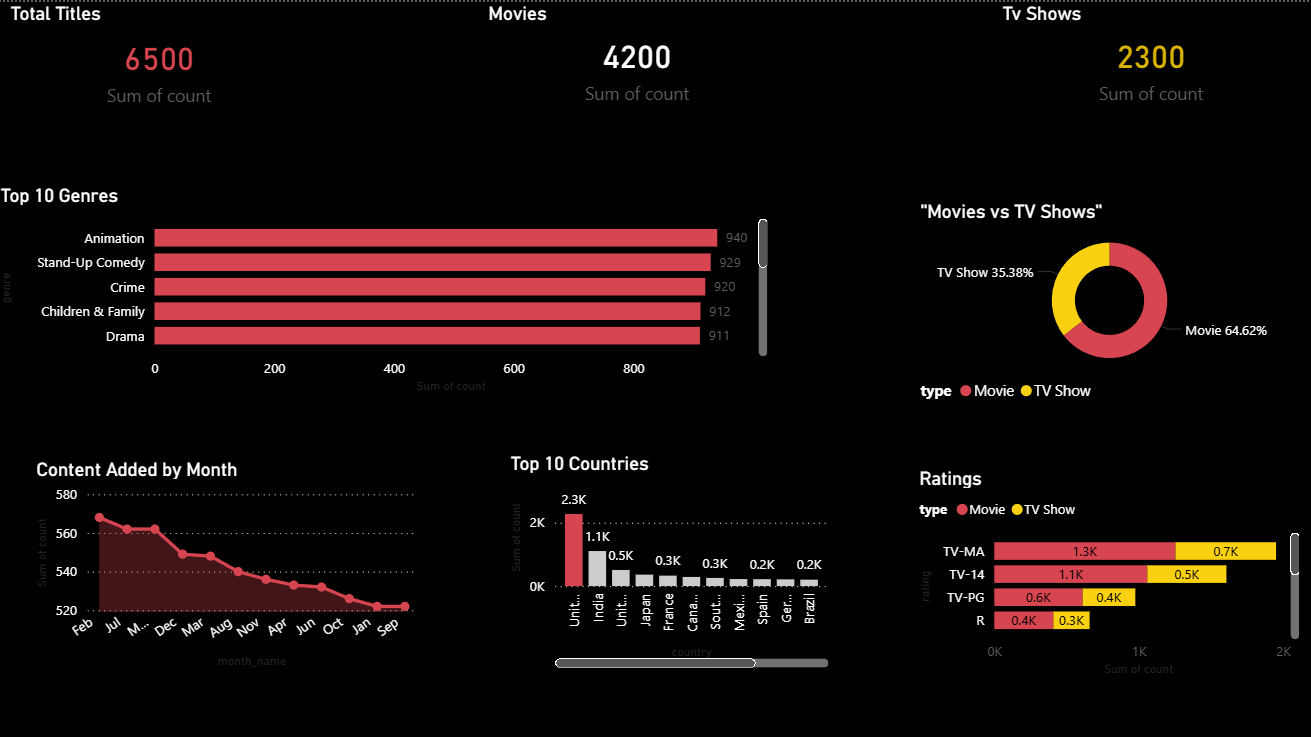

Layout of this report page (visuals, bound fields, positions):
{"tool":"powerbi","page":{"name":"Page 1","canvas":[1280,720],"ordinal":0},"visuals":[{"type":"card","title":" Total Titles","fields":{"Values":["Sum(pb2_movies_vs_tv.count)"]},"box":[10,0,280,101.8],"z":0},{"type":"card","title":" Movies","fields":{"Values":["Sum(pb2_movies_vs_tv.count)"]},"box":[410,1.8,280,97.3],"z":1},{"type":"card","title":"Tv Shows","fields":{"Values":["Sum(pb2_movies_vs_tv.count)"]},"box":[825.5,4.5,280,97.3],"z":2},{"type":"barChart","fields":{"Y":["Sum(pb1_content_by_year.year_added)"],"Category":["pb1_content_by_year.count"],"Series":["pb1_content_by_year.type"]},"box":[10,120,316.4,240],"z":3},{"type":"donutChart","title":" \"Movies vs TV Shows\"","fields":{"Category":["pb2_movies_vs_tv.type"],"Y":["Sum(pb2_movies_vs_tv.count)"]},"box":[360.9,134.5,355.5,194.5],"z":4},{"type":"clusteredBarChart","title":"Top 10 Genres","fields":{"Category":["pb3_top_genres.genre"],"Y":["Sum(pb3_top_genres.count)"]},"box":[760,142.7,385.5,194.5],"z":5},{"type":"clusteredColumnChart","title":"Top 10 Countries","fields":{"Category":["pb4_top_countries.country"],"Y":["Sum(pb4_top_countries.count)"]},"box":[18.2,413.6,299.1,206.4],"z":6}]}

Visuals, with their boxes in screenshot pixels (x1, y1, x2, y2), scaled from the page's 1280x720 canvas onto the 1311x737 screenshot:
" Total Titles" card: x1=10, y1=0, x2=297, y2=104
" Movies" card: x1=420, y1=2, x2=707, y2=101
"Tv Shows" card: x1=845, y1=5, x2=1132, y2=104
barChart - Sum(pb1_content_by_year.year_added) x pb1_content_by_year.count: x1=10, y1=123, x2=334, y2=368
" "Movies vs TV Shows"" donutChart: x1=370, y1=138, x2=734, y2=337
"Top 10 Genres" clusteredBarChart: x1=778, y1=146, x2=1173, y2=345
"Top 10 Countries" clusteredColumnChart: x1=19, y1=423, x2=325, y2=635
